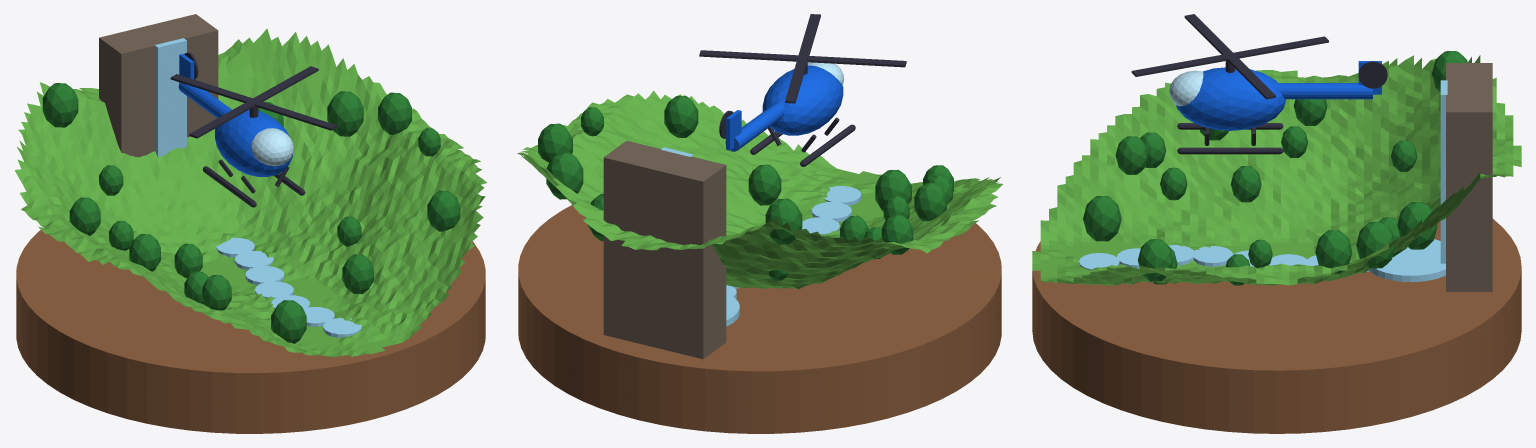
Rendered from maui-helicopter.glb.
3 views of the same model, side by side, from view 1: azimuth 30°, elevation 25°; view 2: azimuth 150°, elevation 25°; view 3: azimuth 270°, elevation 25° (orthographic). The views are drawn at different scales.
Parts seen in each view (by area): view 1: soil; view 2: soil; view 3: soil.
Part boxes in pixels (x1,y1,x2,y2): soil: (14,14,486,433); soil: (517,14,1002,433); soil: (1032,14,1521,433).
Bounding box in the file's own units: 0.84 × 0.502 × 0.84.
Materials: 1 (1 with a texture image).
